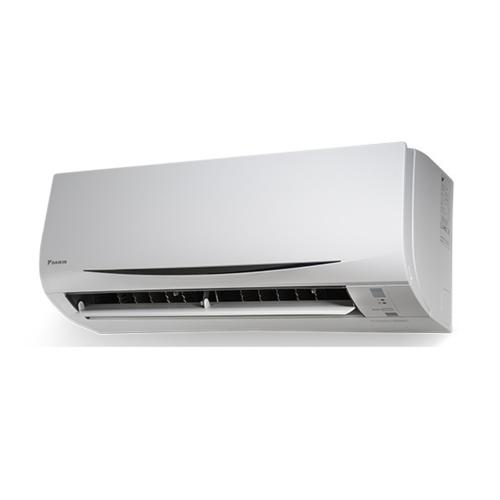ac: (38, 140, 460, 356)
